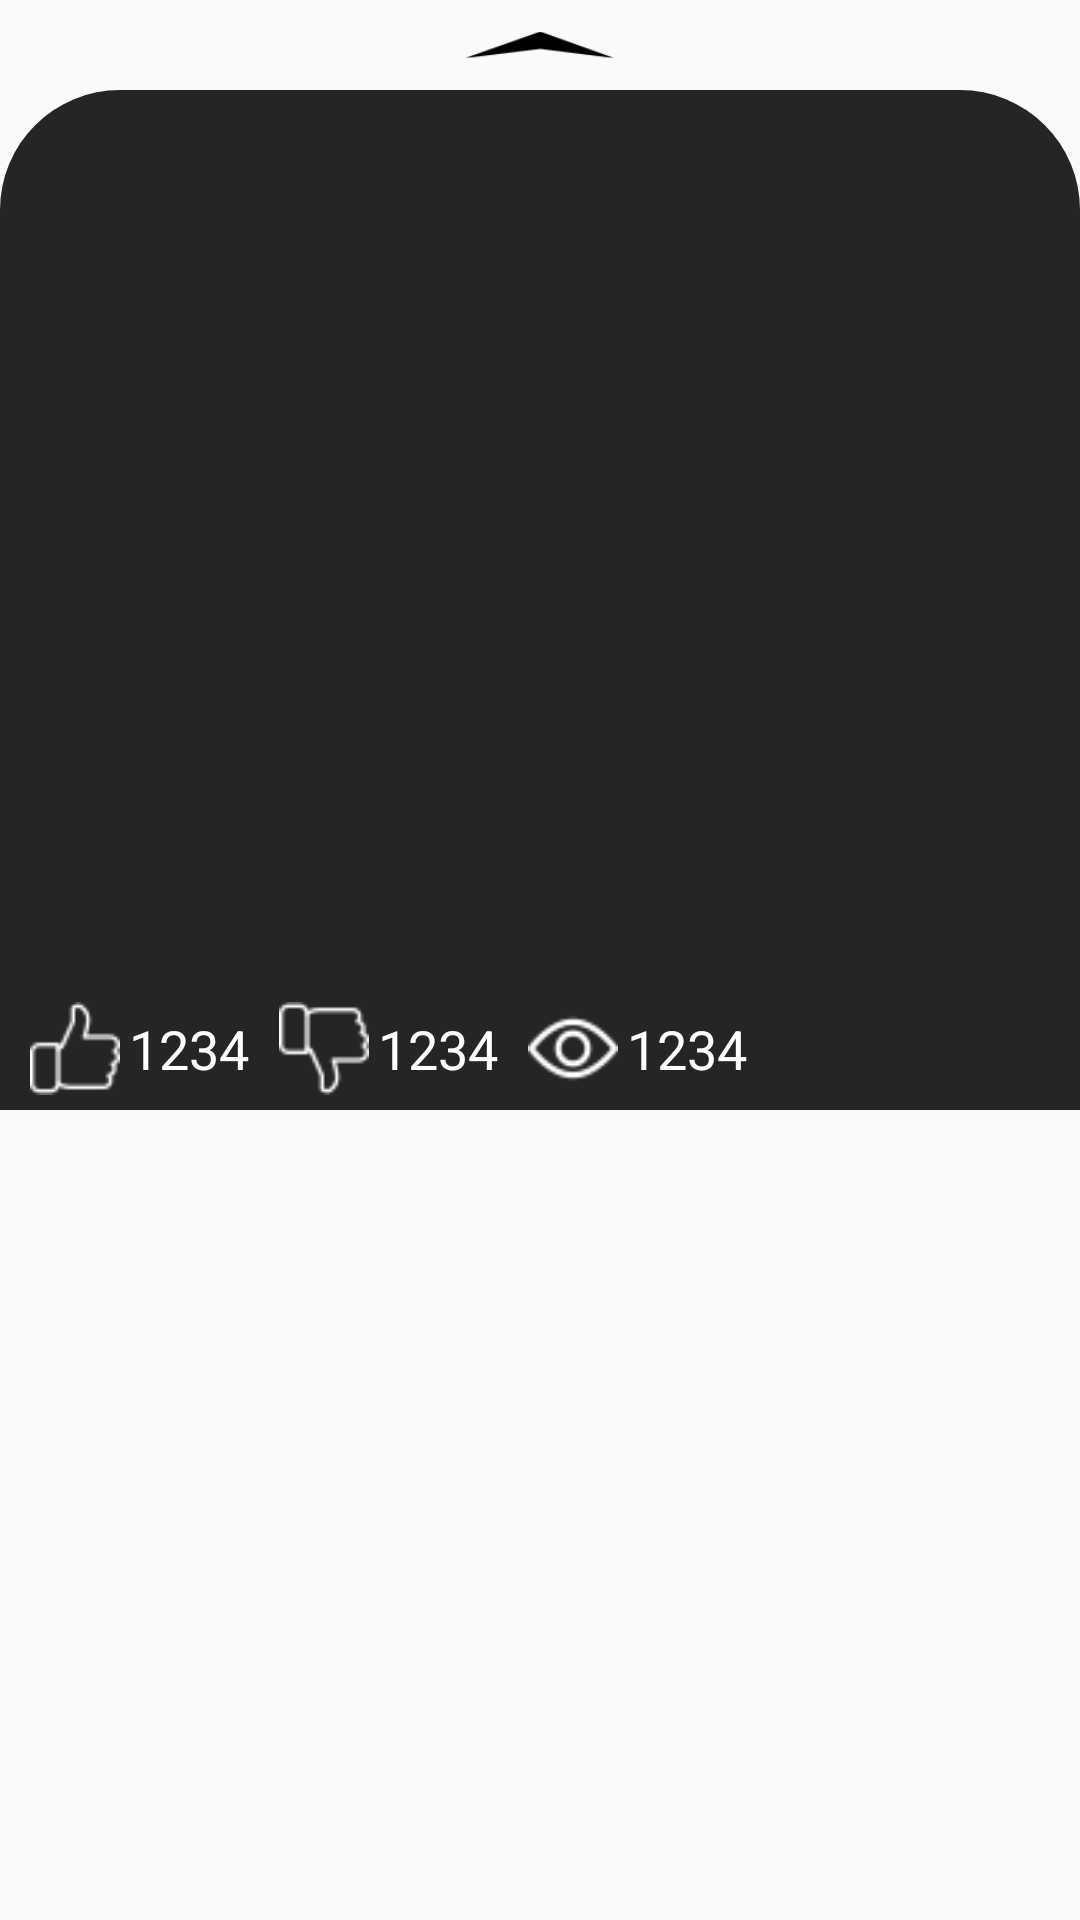

Screen size 1080 x 1920. Icon name, then its center in pixels as point (x, y):
arrow: point (540, 45)
dislike: point (324, 1048)
eye: point (573, 1048)
like: point (75, 1048)
